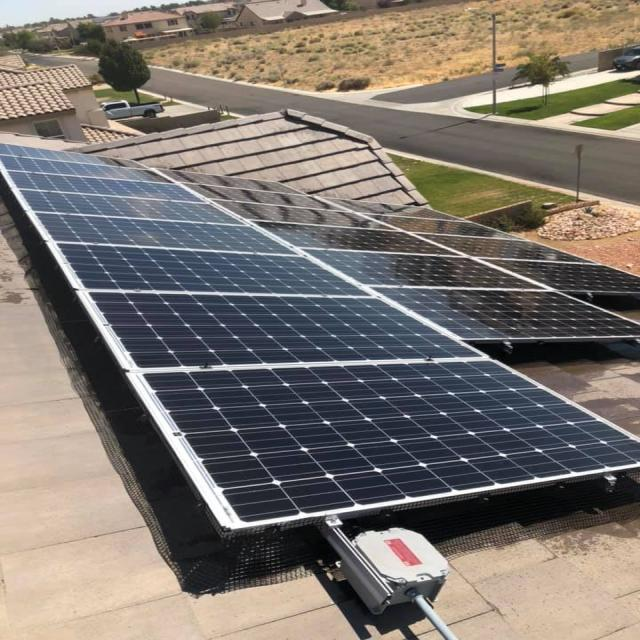clean-solar-panel: (0, 146, 638, 532)
